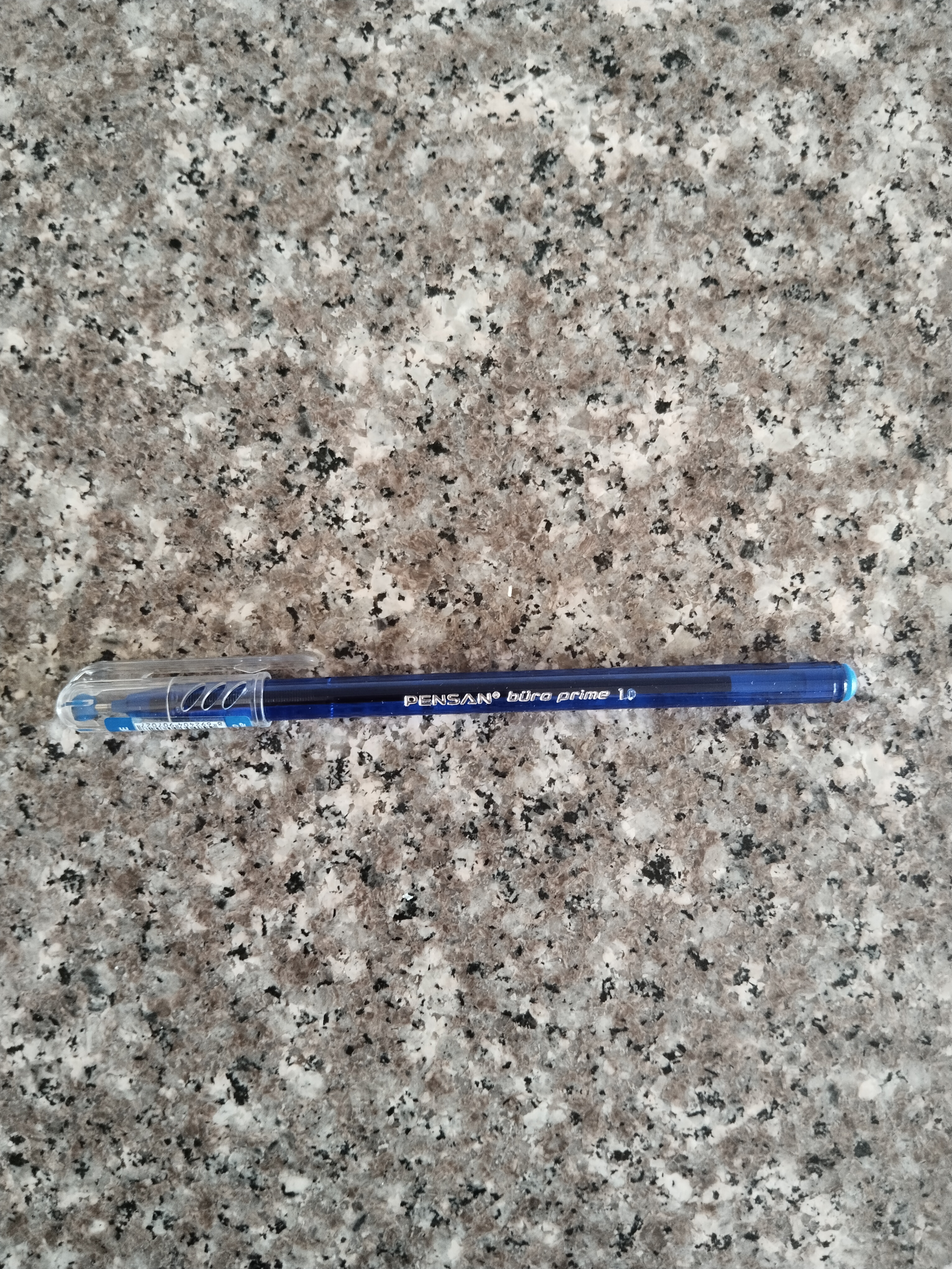pensan_mavi_tukenmez_kalem: (69, 650, 853, 733)
